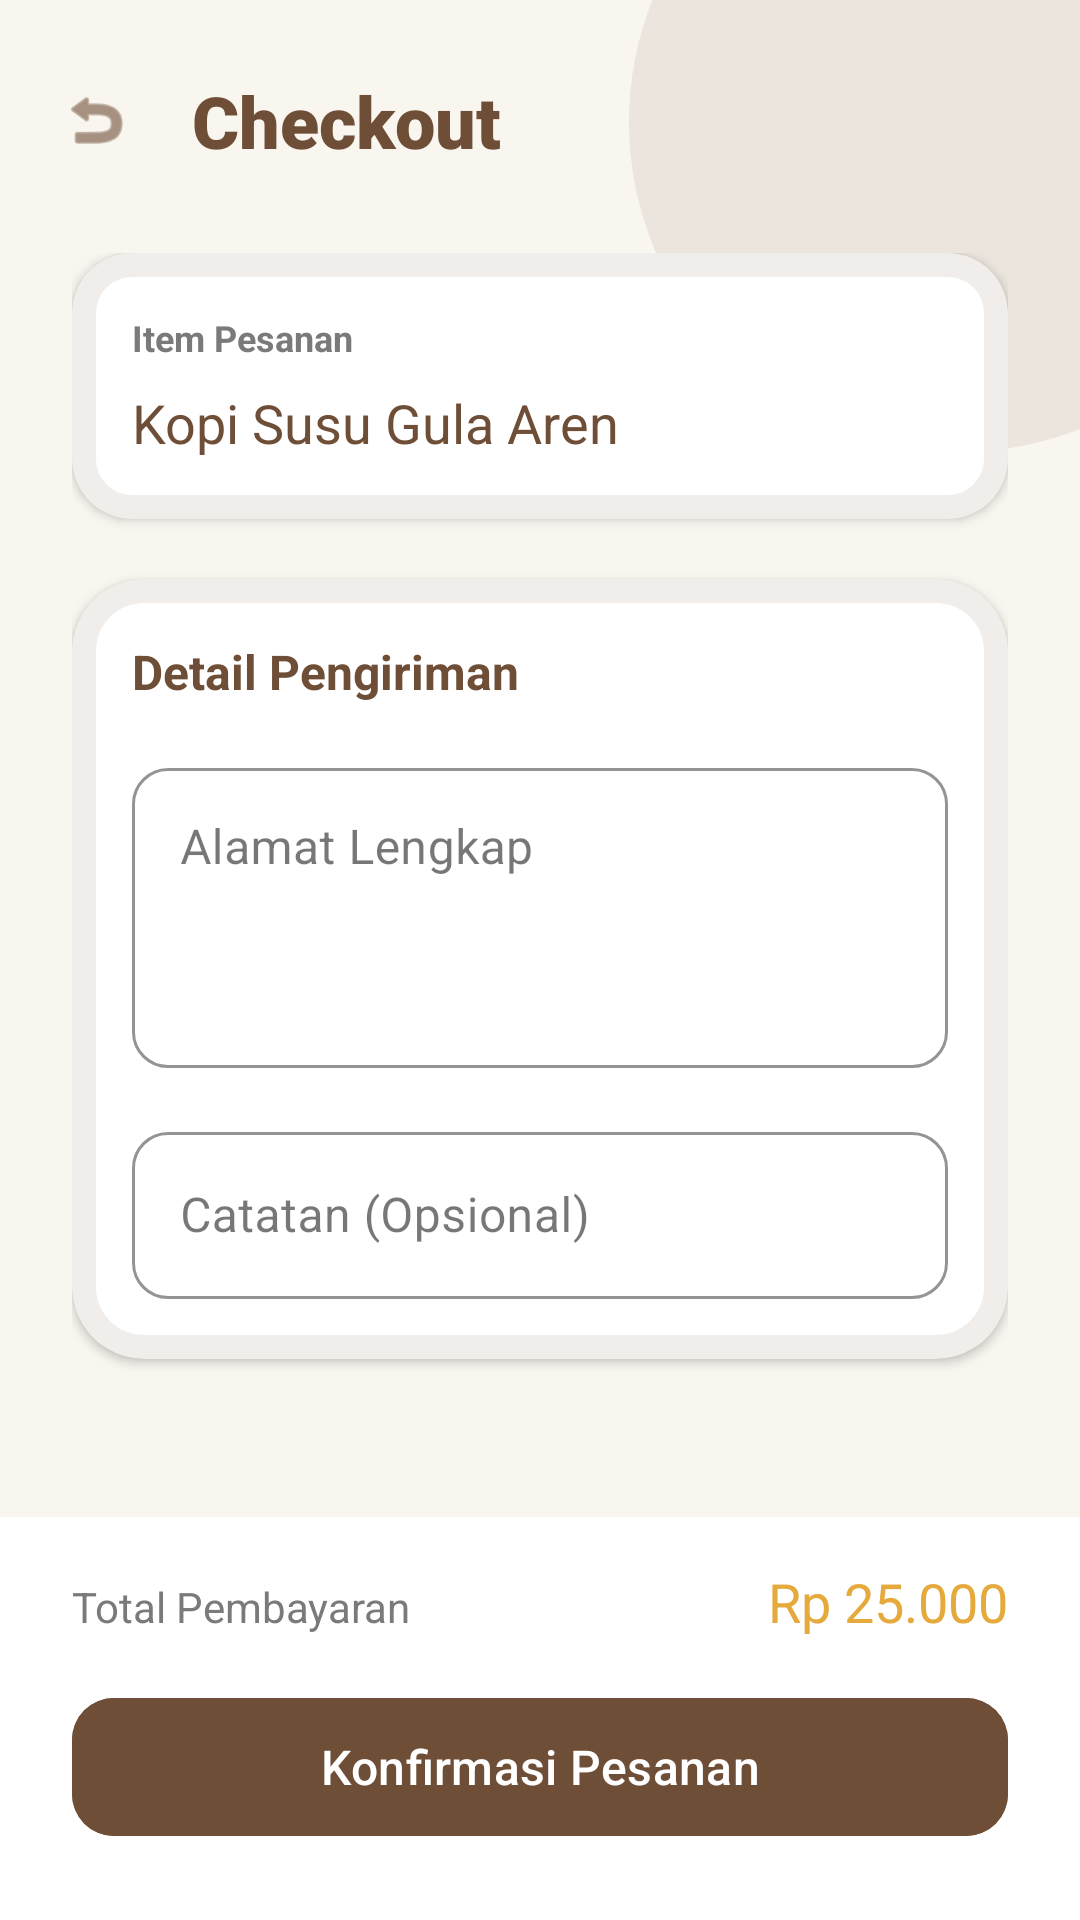

Icon bounding boxes for this 1080px x 1920px phone screenshot, format (x1, y1, x2, y2):
revert: (71, 97, 123, 144)
